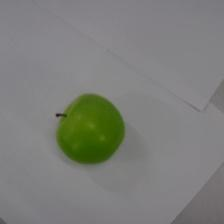green: (53, 92, 127, 167)
